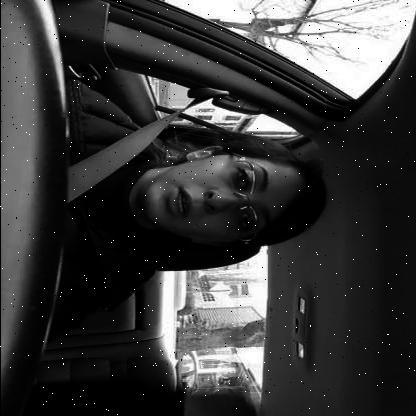seatbelt: (63, 84, 332, 262)
